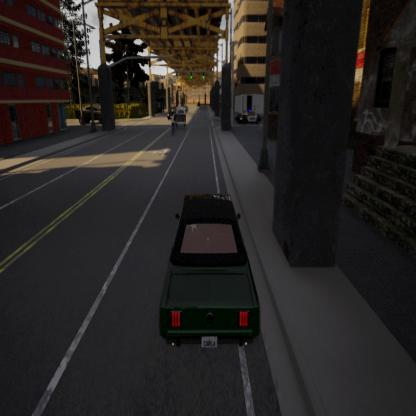Cars: (160, 193, 260, 348), (74, 104, 108, 125), (236, 110, 262, 124), (175, 105, 187, 131), (172, 112, 176, 134), (167, 108, 174, 120)
